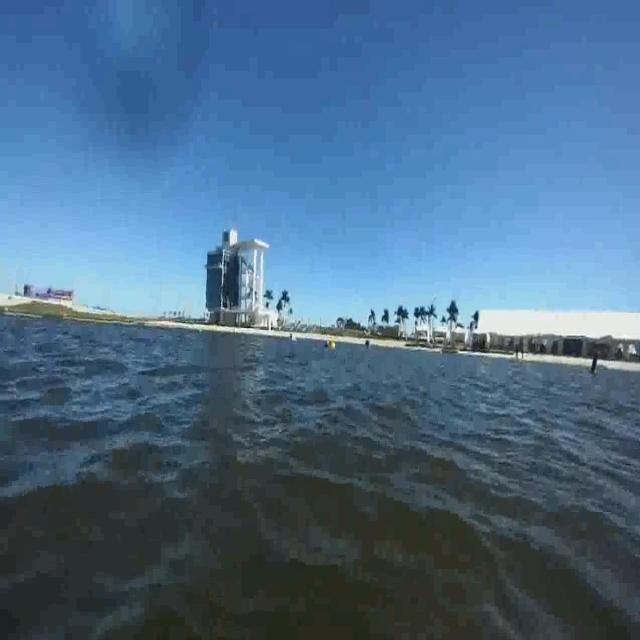yellow-buoy: (330, 340, 336, 351)
